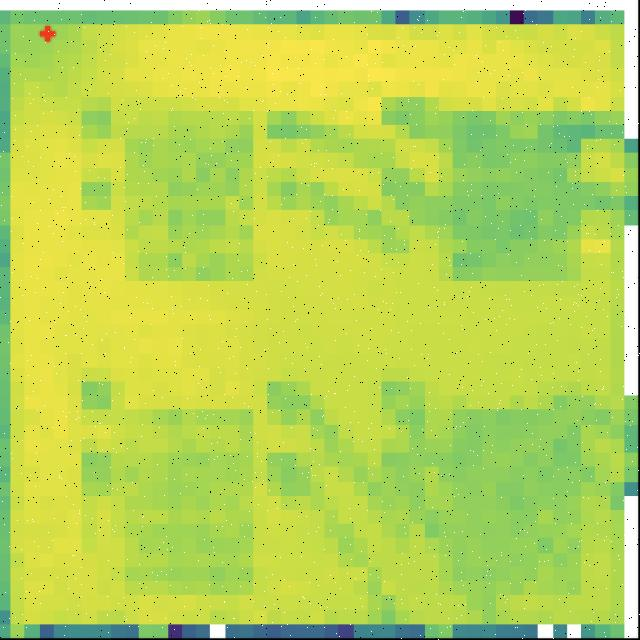Concrete: (126, 104, 257, 283)
Glass: (448, 406, 585, 598)
Metal: (123, 405, 255, 597)
Wood: (440, 107, 582, 283)
